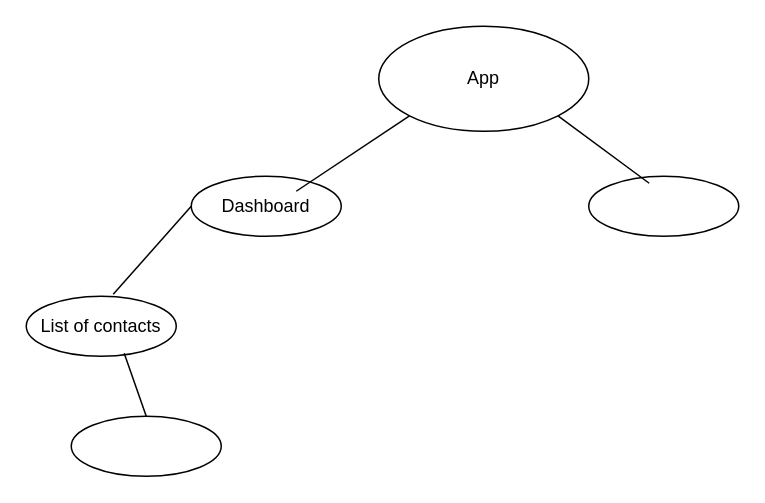
The diagram is 765 pixels wide and 503 high, and some of its shapes have lost their labels. Here are the shapes that lost their labels. From the top down, the box of each, then its label:
(587, 175, 739, 236): Contact form
(70, 415, 221, 476): Contact
